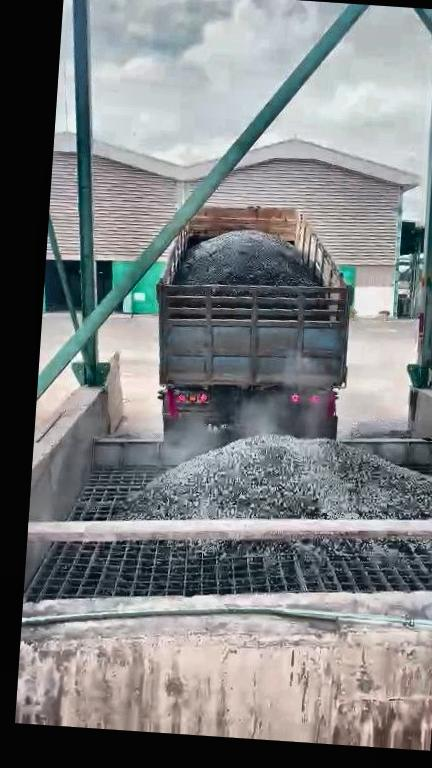gravel: (121, 436, 432, 518), (175, 231, 319, 285), (189, 537, 432, 566), (341, 419, 411, 439)
